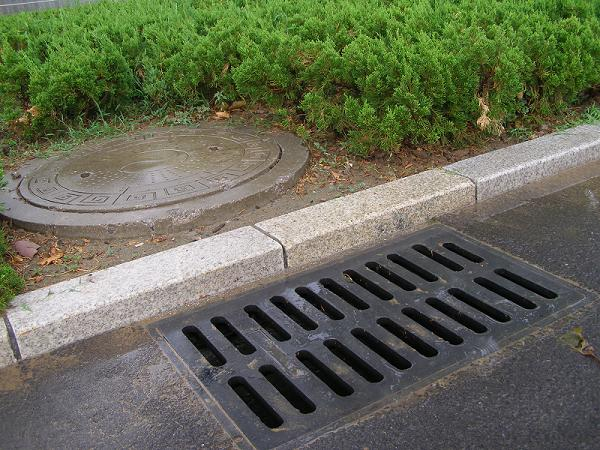wellcover: (132, 216, 600, 450), (5, 109, 322, 223)
